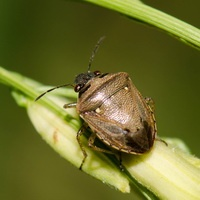insect: (35, 36, 156, 168)
